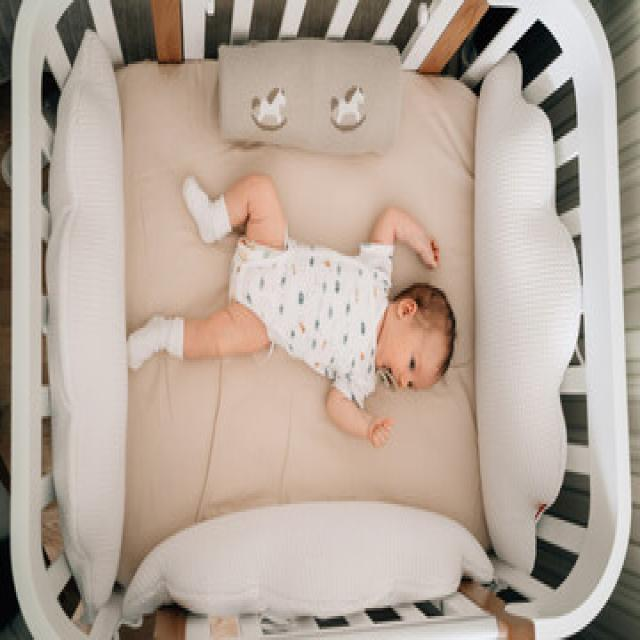crib: (5, 0, 631, 637)
